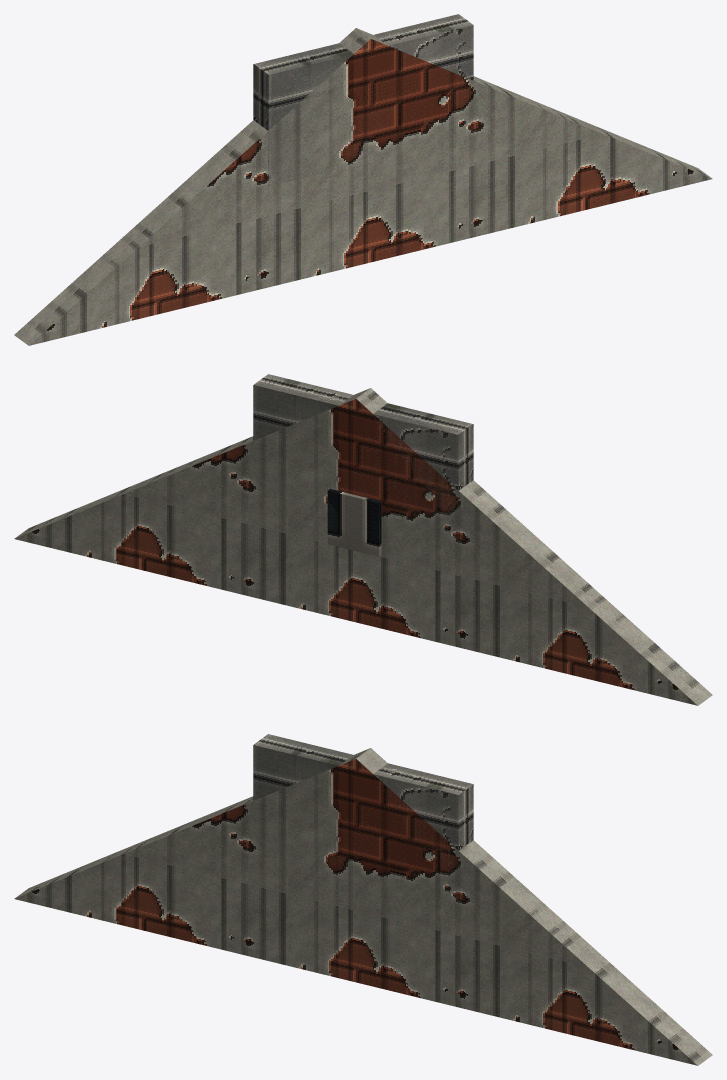
The model's file is gable_plaster_8.glb.
The picture shows the model from 3 angles, top to bottom: view 1: azimuth 30°, elevation 25°; view 2: azimuth 150°, elevation 25°; view 3: azimuth 330°, elevation 25°; orthographic projection.
Parts seen in each view (by area): view 1: gable_plaster_8_mesh, gable_plaster_8_col-colonly.001; view 2: gable_plaster_8_mesh, gable_plaster_8_col-colonly.001; view 3: gable_plaster_8_mesh, gable_plaster_8_col-colonly.001.
Boxes of the visible parts, x1=… form: gable_plaster_8_mesh: x1=14, y1=28, x2=712, y2=345; gable_plaster_8_col-colonly.001: x1=253, y1=14, x2=473, y2=186; gable_plaster_8_mesh: x1=14, y1=388, x2=712, y2=705; gable_plaster_8_col-colonly.001: x1=253, y1=374, x2=473, y2=544; gable_plaster_8_mesh: x1=14, y1=748, x2=712, y2=1065; gable_plaster_8_col-colonly.001: x1=253, y1=734, x2=473, y2=900.
Size of what is drawn, in the model's own units: 8 by 2.5 by 0.355.
Materials: 3 (3 with a texture image).
